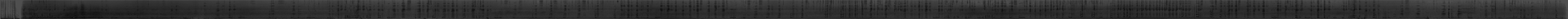Moan: (667, 0, 670, 19)
